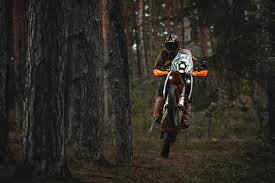motorcycle: (150, 45, 212, 160)
